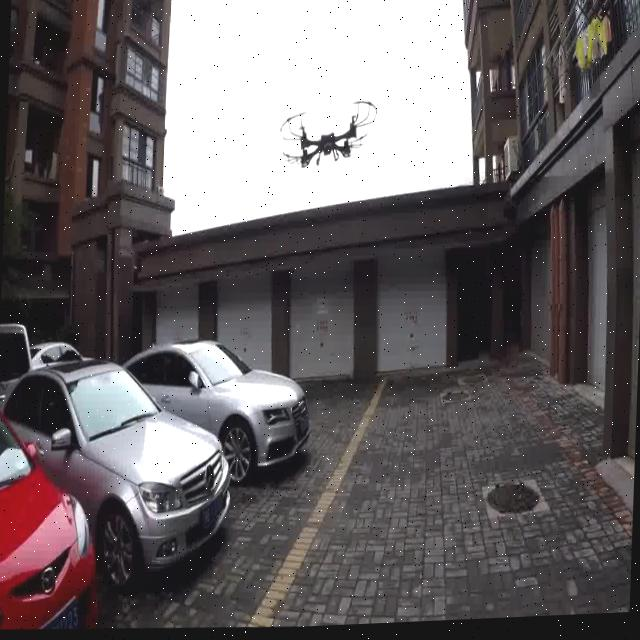drone: (260, 73, 384, 188)
